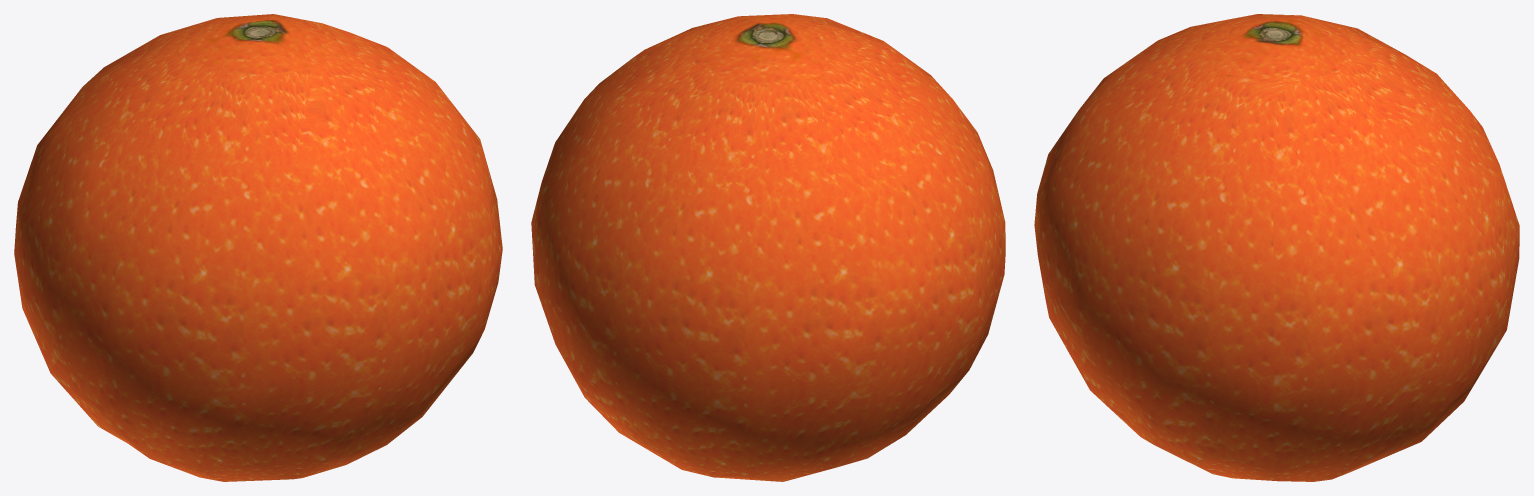
File: Orange.FBX
The picture shows the model from 3 angles, left to right: view 1: azimuth 30°, elevation 25°; view 2: azimuth 150°, elevation 25°; view 3: azimuth 270°, elevation 25°; orthographic projection. The views are drawn at different scales.
Visible parts, largest first — view 1: orange; view 2: orange; view 3: orange.
Part boxes in pixels (x1=…): orange: x1=14, y1=14, x2=502, y2=481; orange: x1=531, y1=14, x2=1005, y2=481; orange: x1=1034, y1=14, x2=1519, y2=481.
Bounding box in the file's own units: 8.4 × 8.24 × 8.41.
Materials: 1 (1 with a texture image).
